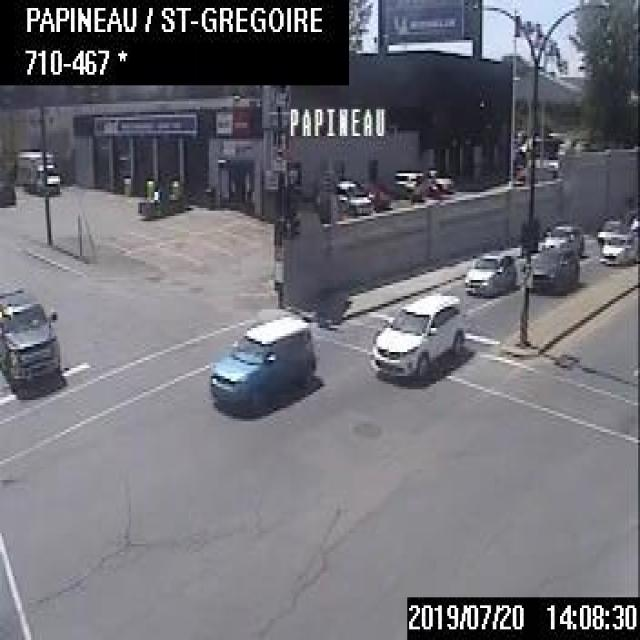vehicle: (207, 312, 313, 411), (369, 288, 466, 381), (0, 285, 60, 387), (464, 248, 514, 293), (15, 147, 59, 195), (533, 250, 582, 291), (537, 219, 585, 259), (331, 178, 374, 216), (597, 232, 638, 262)
